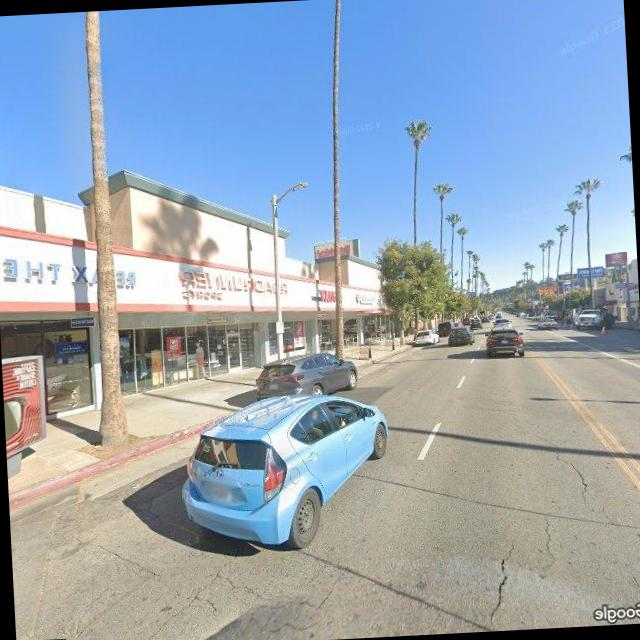crack: (177, 550, 269, 617)
pothole: (482, 540, 520, 627), (546, 436, 592, 504), (538, 513, 562, 574)
